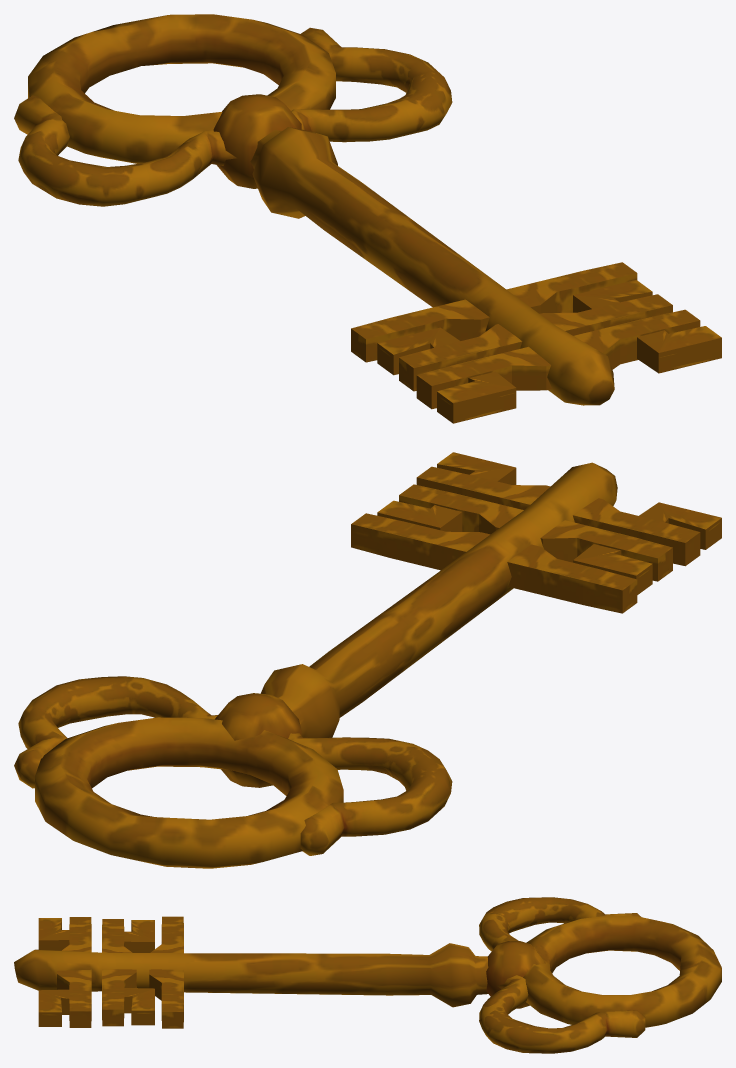
File: Key_Gold.gltf
The picture shows the model from 3 angles, top to bottom: view 1: azimuth 30°, elevation 25°; view 2: azimuth 150°, elevation 25°; view 3: azimuth 270°, elevation 25°; orthographic projection. The views are drawn at different scales.
Parts seen in each view (by area): view 1: Key_Gold; view 2: Key_Gold; view 3: Key_Gold.
Part boxes in pixels (x1,y1,x2,y2): Key_Gold: (14, 14, 721, 423); Key_Gold: (14, 452, 721, 868); Key_Gold: (14, 897, 721, 1053).
Size of the model in its own units: 0.0581 by 0.0123 by 0.1223.
Materials: 1 (1 with a texture image).
